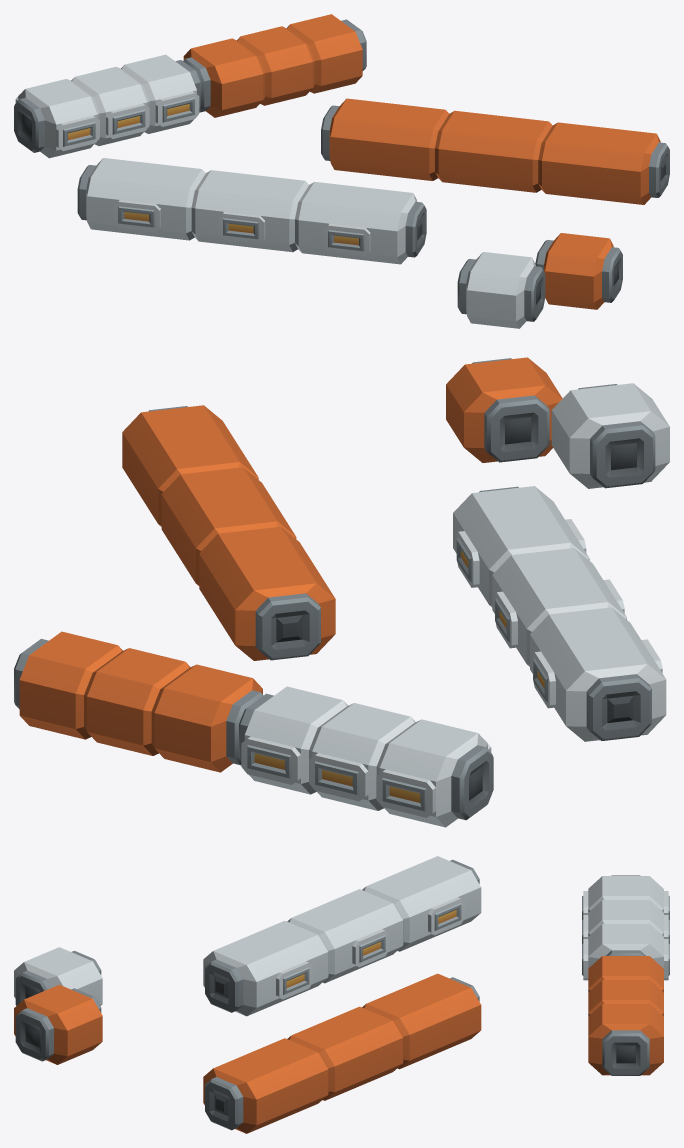
The model's file is Tunnels.glb.
The picture shows the model from 3 angles, top to bottom: view 1: azimuth 30°, elevation 25°; view 2: azimuth 150°, elevation 25°; view 3: azimuth 270°, elevation 25°; orthographic projection. The views are drawn at different scales.
Visible parts, largest first — view 1: tunnel_diagonal_long_A, tunnel_diagonal_long_B, tunnel_straight_A, tunnel_straight_B, tunnel_diagonal_short_A, tunnel_diagonal_short_B; view 2: tunnel_diagonal_long_A, tunnel_diagonal_long_B, tunnel_straight_A, tunnel_straight_B, tunnel_diagonal_short_A, tunnel_diagonal_short_B; view 3: tunnel_diagonal_long_A, tunnel_diagonal_long_B, tunnel_straight_B, tunnel_straight_A, tunnel_diagonal_short_B, tunnel_diagonal_short_A.
Part boxes in pixels (x1=…): tunnel_diagonal_long_A: x1=77, y1=158, x2=426, y2=264; tunnel_diagonal_long_B: x1=321, y1=98, x2=669, y2=204; tunnel_straight_A: x1=14, y1=54, x2=200, y2=158; tunnel_straight_B: x1=183, y1=14, x2=366, y2=117; tunnel_diagonal_short_A: x1=457, y1=252, x2=545, y2=328; tunnel_diagonal_short_B: x1=535, y1=233, x2=622, y2=309; tunnel_diagonal_long_A: x1=453, y1=486, x2=666, y2=741; tunnel_diagonal_long_B: x1=122, y1=405, x2=335, y2=660; tunnel_straight_A: x1=239, y1=686, x2=493, y2=827; tunnel_straight_B: x1=14, y1=631, x2=263, y2=772; tunnel_diagonal_short_A: x1=551, y1=383, x2=669, y2=488; tunnel_diagonal_short_B: x1=446, y1=357, x2=562, y2=462; tunnel_diagonal_long_A: x1=203, y1=856, x2=481, y2=1016; tunnel_diagonal_long_B: x1=203, y1=973, x2=481, y2=1133; tunnel_straight_B: x1=588, y1=955, x2=663, y2=1075; tunnel_straight_A: x1=582, y1=875, x2=669, y2=980; tunnel_diagonal_short_B: x1=14, y1=984, x2=102, y2=1064; tunnel_diagonal_short_A: x1=14, y1=947, x2=102, y2=1005.
Bounding box in the file's own units: 5.88 × 0.6 × 6.93.
Materials: 1 (1 with a texture image).
